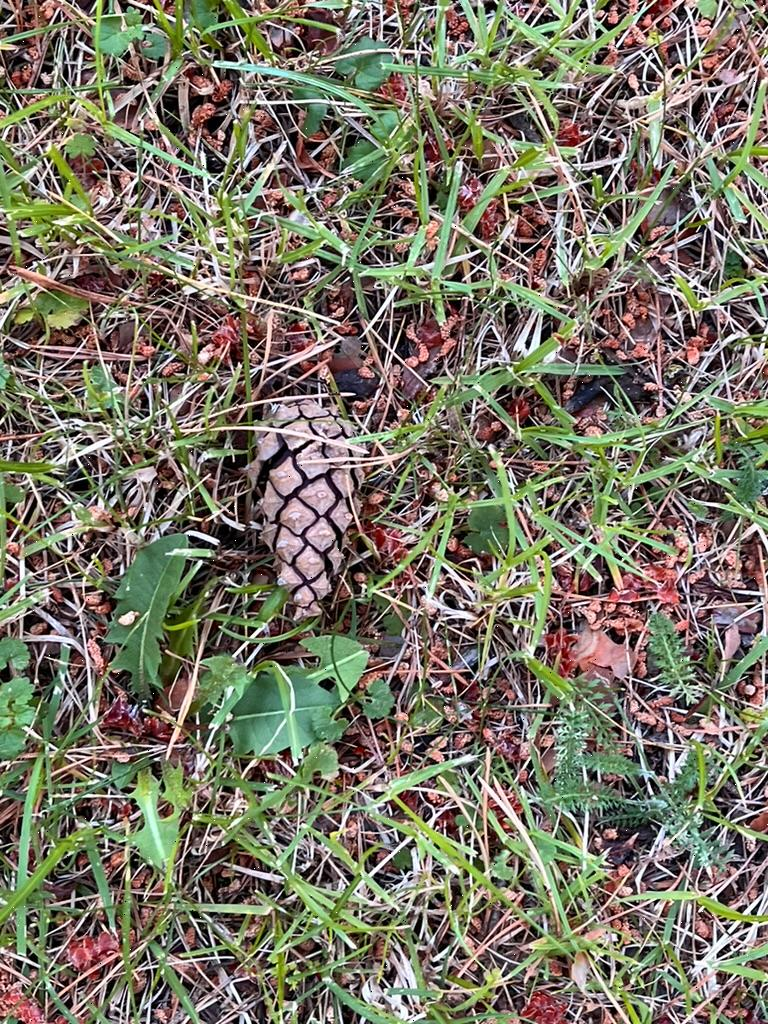pine: (238, 370, 376, 633)
